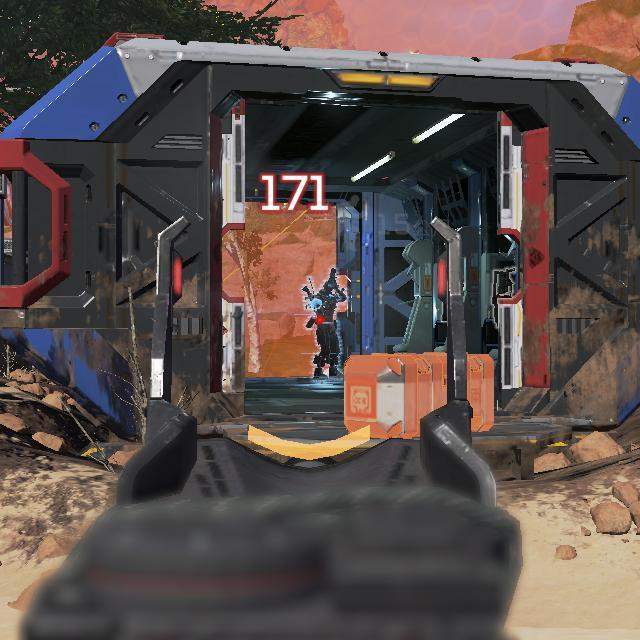avatar: (302, 275, 349, 381)
